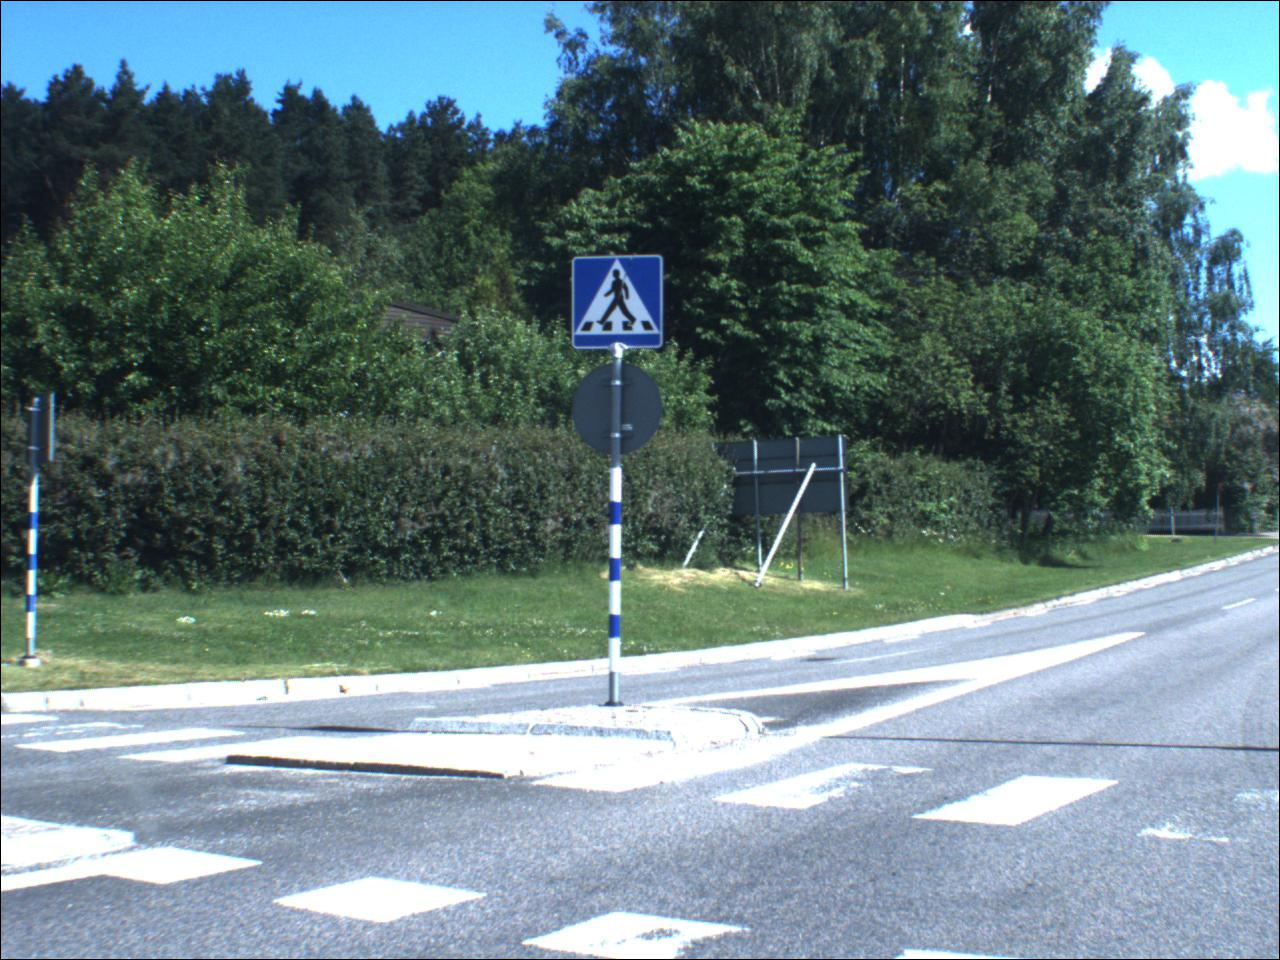PEDESTRIAN_CROSSING: (577, 256, 664, 351)
